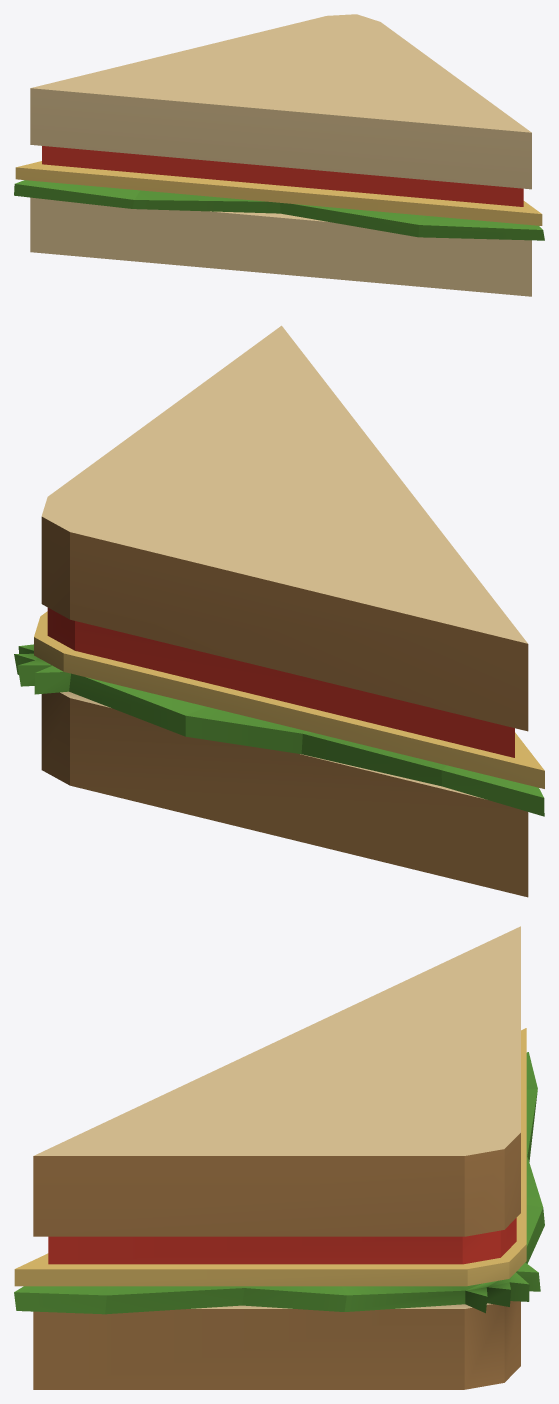
Rendered from biteSandwich.glb.
The picture shows the model from 3 angles, top to bottom: view 1: azimuth 30°, elevation 25°; view 2: azimuth 150°, elevation 25°; view 3: azimuth 270°, elevation 25°; orthographic projection. The views are drawn at different scales.
Visible parts, largest first — view 1: biteSandwich; view 2: biteSandwich; view 3: biteSandwich.
Part boxes in pixels (x1,y1,x2,y2): biteSandwich: (14,14,544,296); biteSandwich: (14,325,544,897); biteSandwich: (14,926,544,1389).
Size of the model in its own units: 0.1261 by 0.055 by 0.1132.
